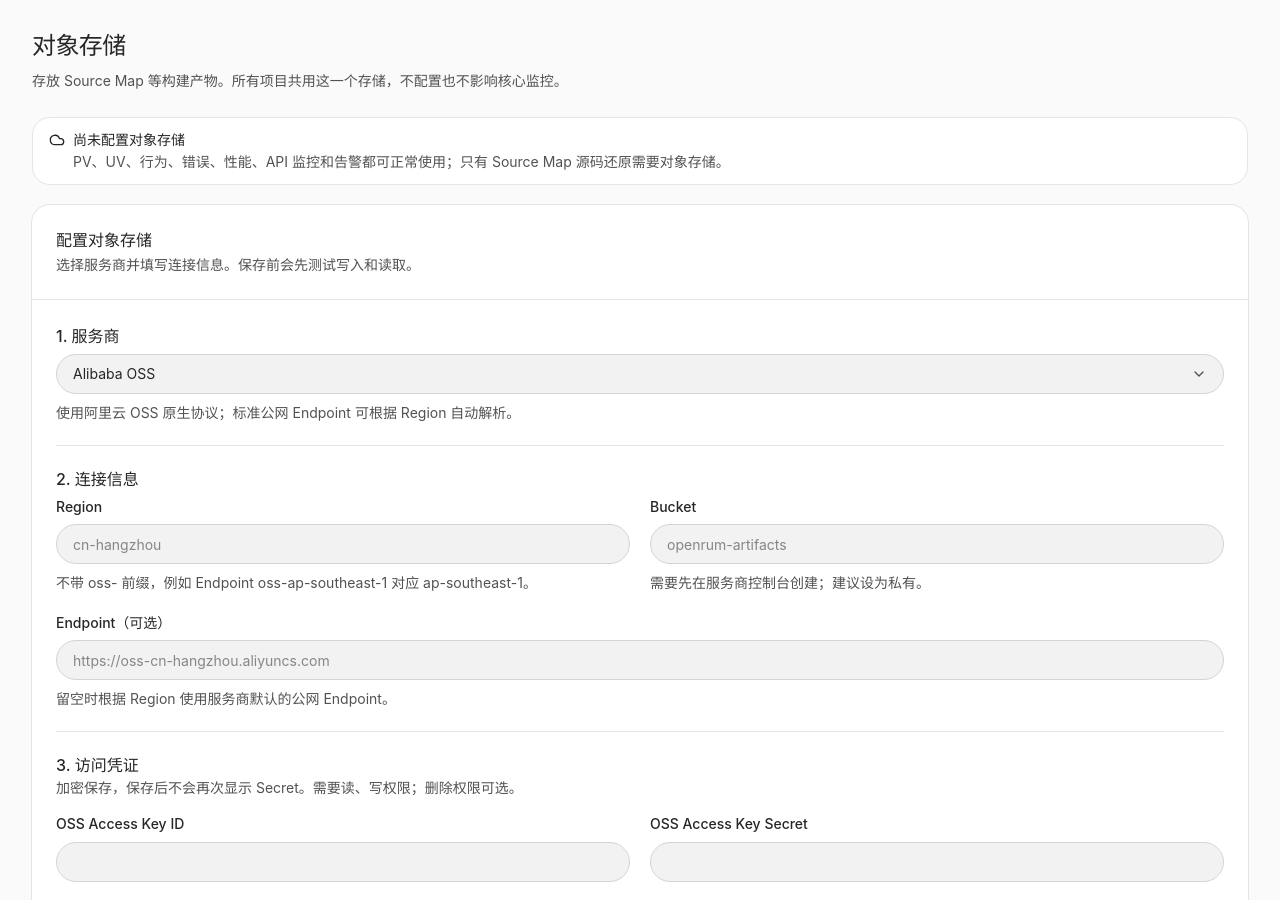
it: ObjectStoragePage › shows which probe step failed when the new configuration is rejected
The image size is (1280, 900).
Type "ap-southeast-1" into the field labelled "Region" at point(343, 544), box [56,524,630,564]
Type "missing-bucket" into the field labelled "Bucket" at point(937, 544), box [650,524,1224,564]
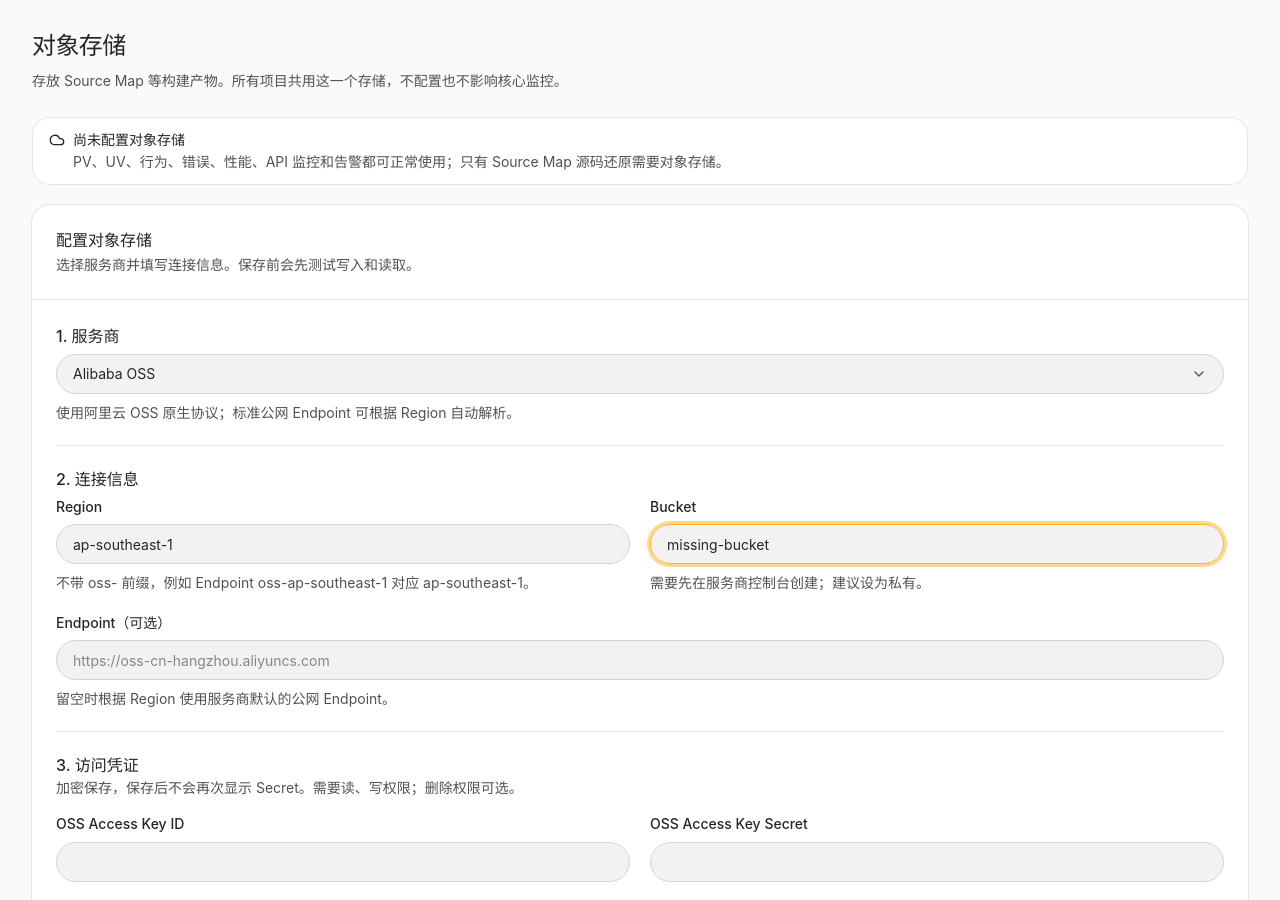
Type "LTAI-key" into the field labelled "OSS Access Key ID" at point(343, 862), box [56,842,630,882]
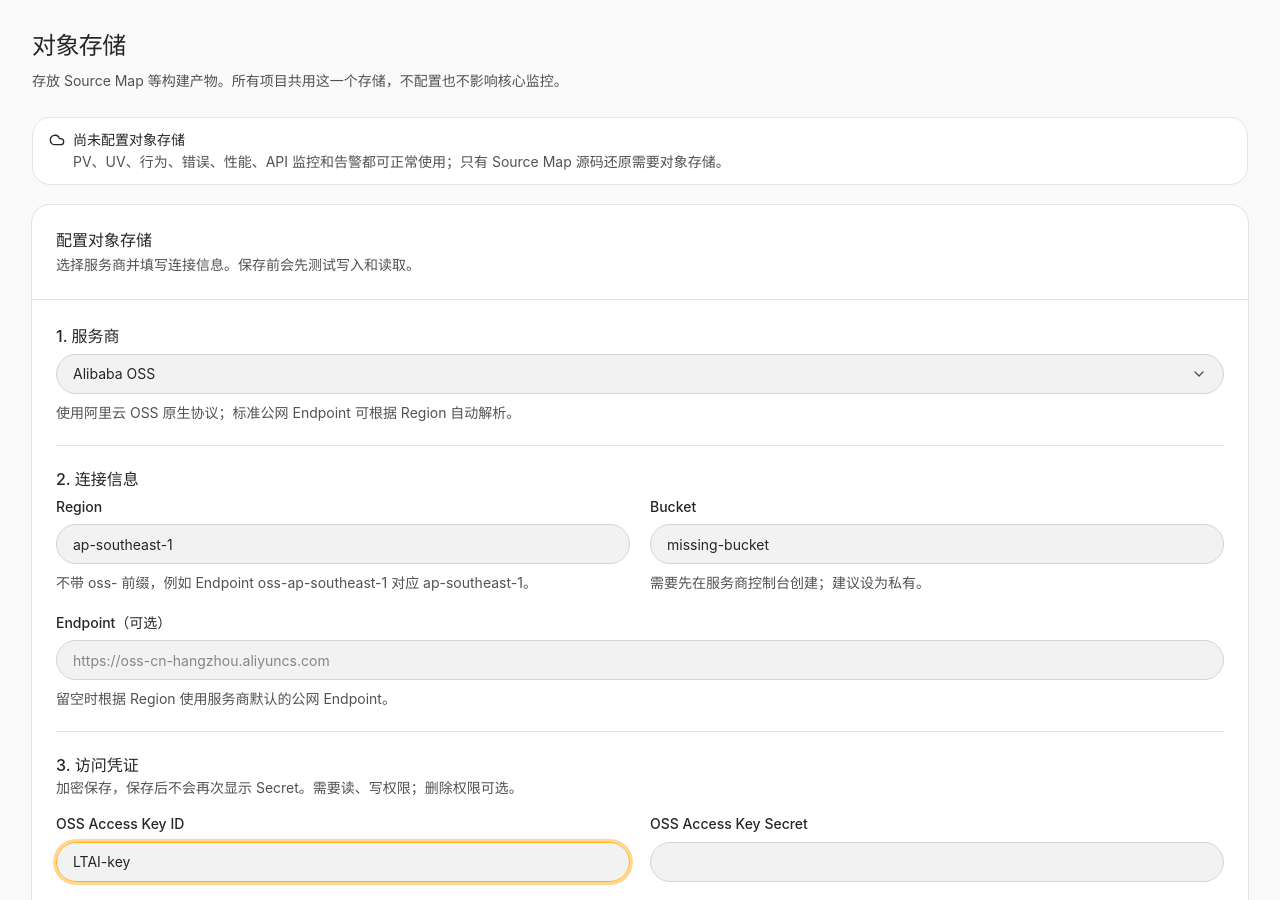
Type "secret" into the password field labelled "OSS Access Key Secret" at point(937, 862), box [650,842,1224,882]
(page scrolled)
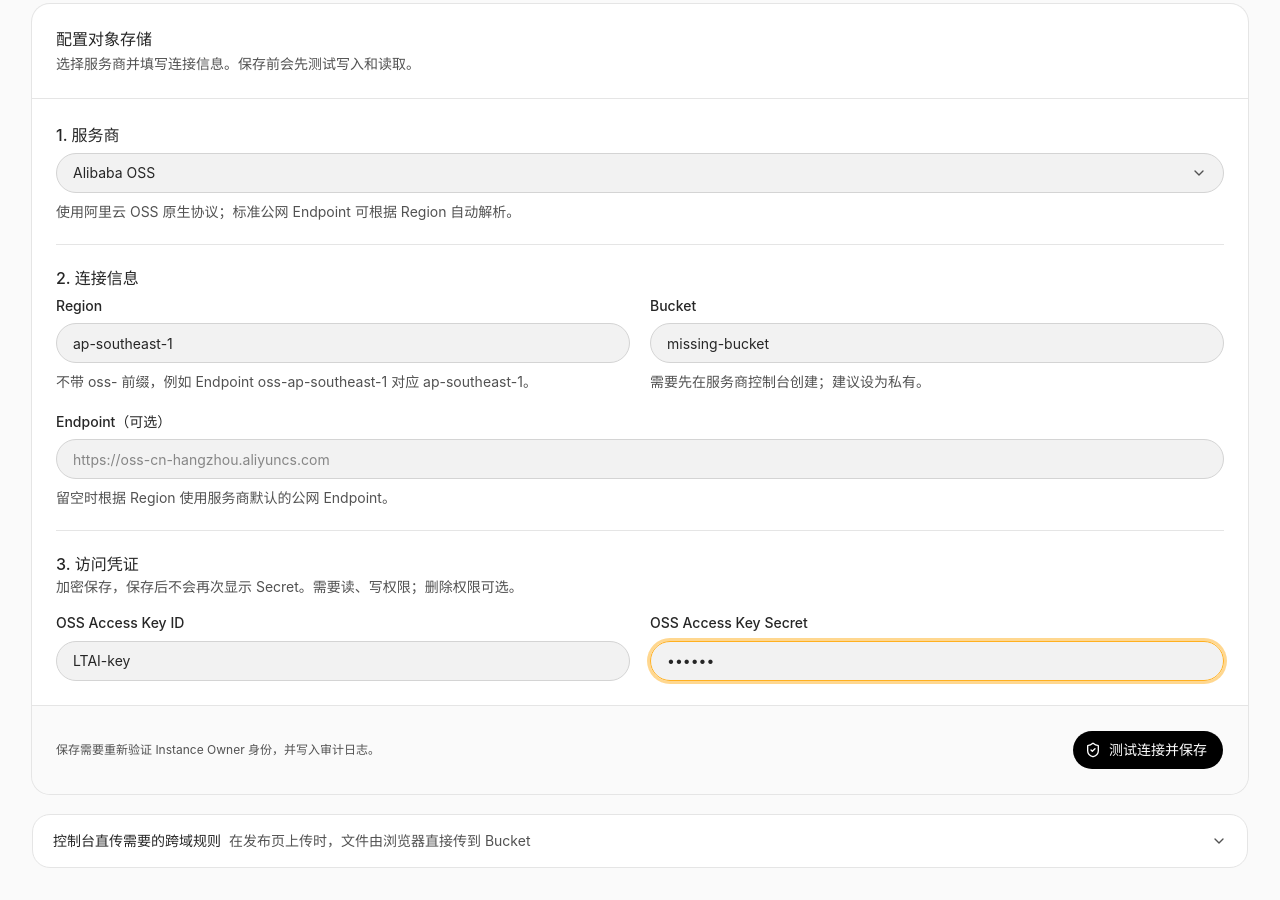
Click the button "测试连接并保存" at point(1148, 750), box [1072,730,1224,770]
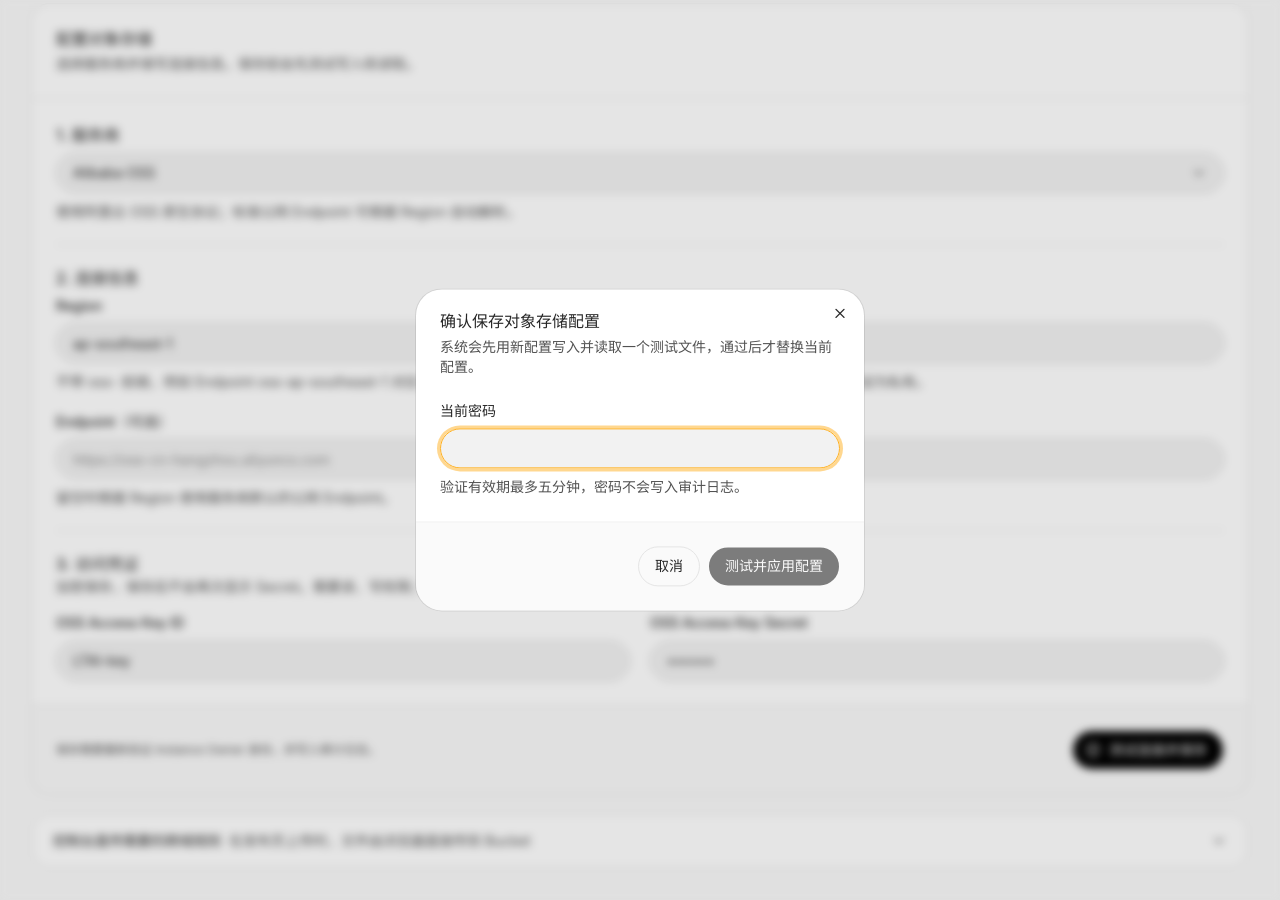
Type "owner-password" into the password field labelled "当前密码" at point(640, 449), box [440,429,840,469]
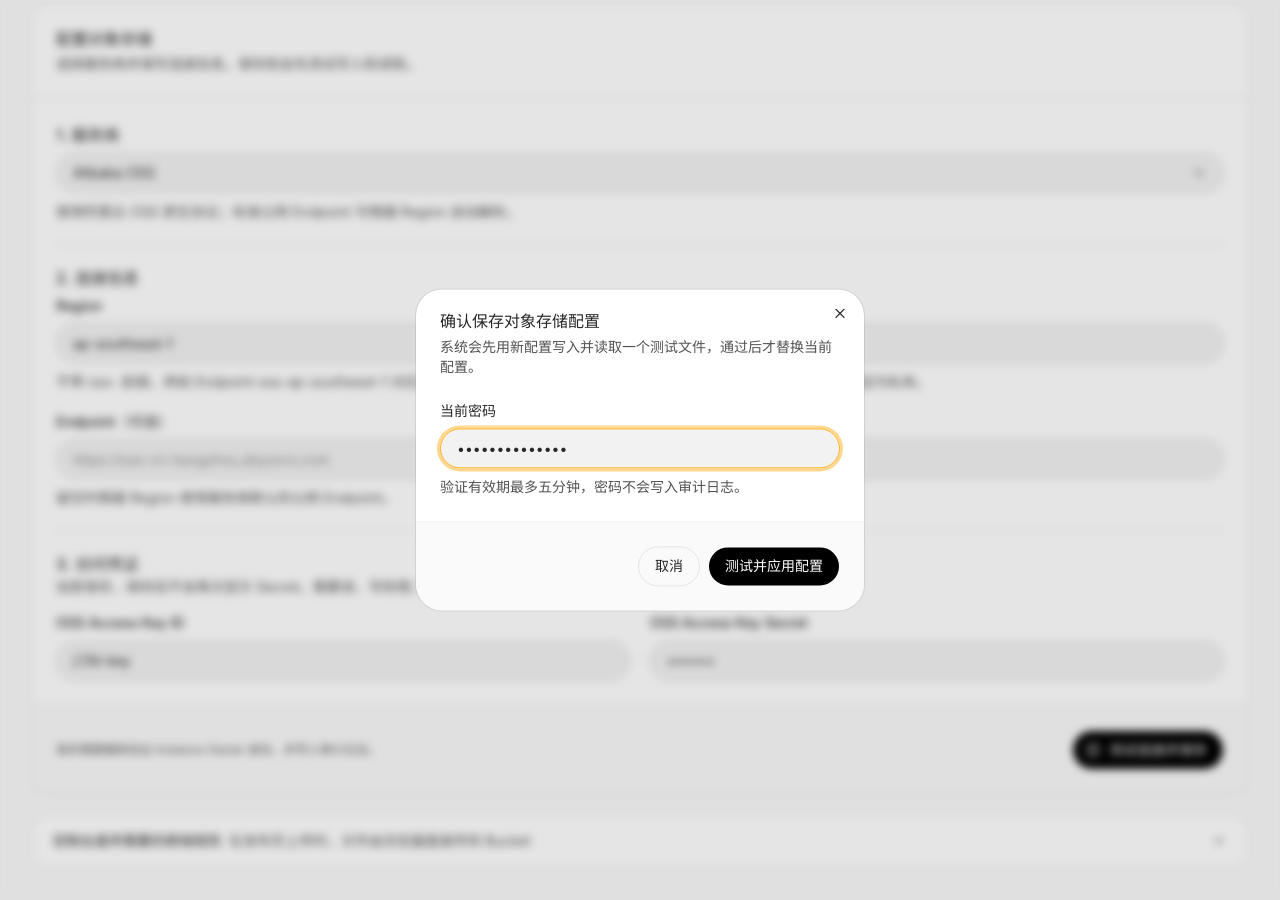
Click the button "测试并应用配置" at point(774, 567), box [708,547,840,587]
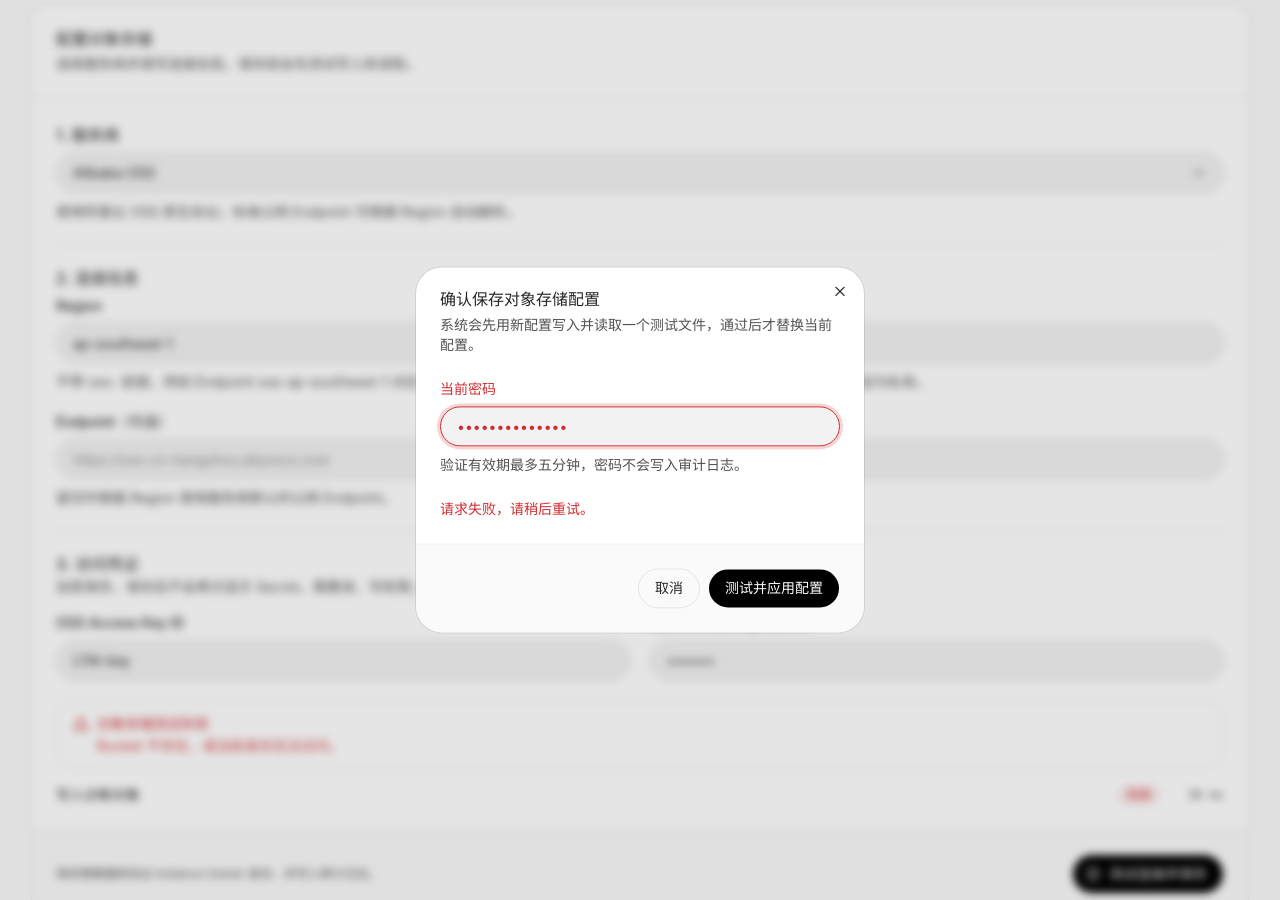
Now the text "对象存储测试失败" is shown, box [97,714,209,732]
Now the text "Bucket 不存在，或当前身份无法访问。" is shown, box [97,736,342,754]
